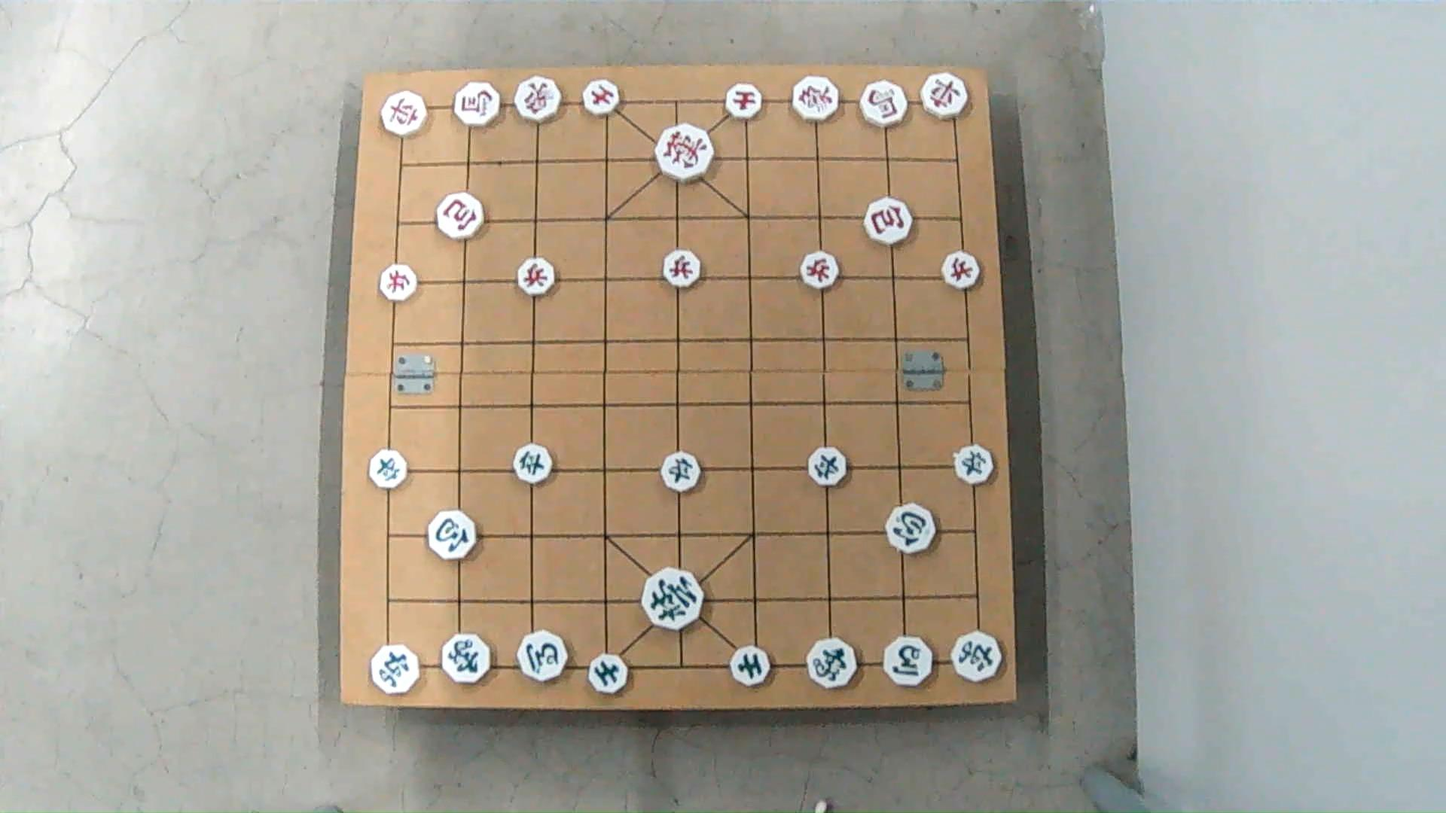cha_green: (950, 632, 1003, 684), (371, 647, 423, 694)
cha_red: (920, 75, 970, 122), (383, 93, 430, 136)
jol_green: (515, 445, 557, 483), (664, 452, 704, 490), (952, 446, 992, 484), (370, 450, 410, 487), (808, 449, 848, 485)
jol_red: (660, 251, 700, 288), (799, 254, 840, 289), (941, 254, 983, 288), (519, 259, 558, 295), (381, 266, 419, 301)
ma_green: (883, 635, 933, 688), (519, 629, 568, 683)
ma_red: (862, 81, 911, 126), (454, 83, 504, 125)
po_green: (425, 512, 477, 559), (883, 506, 934, 553)
po_red: (438, 193, 487, 239), (865, 198, 915, 243)
sa_green: (729, 648, 770, 687), (590, 656, 630, 694)
sa_red: (724, 85, 763, 119), (581, 82, 621, 115)
sang_green: (807, 638, 858, 693), (441, 631, 492, 684)
sang_red: (789, 75, 844, 123), (515, 75, 563, 125)
wang_green: (644, 571, 706, 628)
wang_red: (655, 126, 717, 179)
